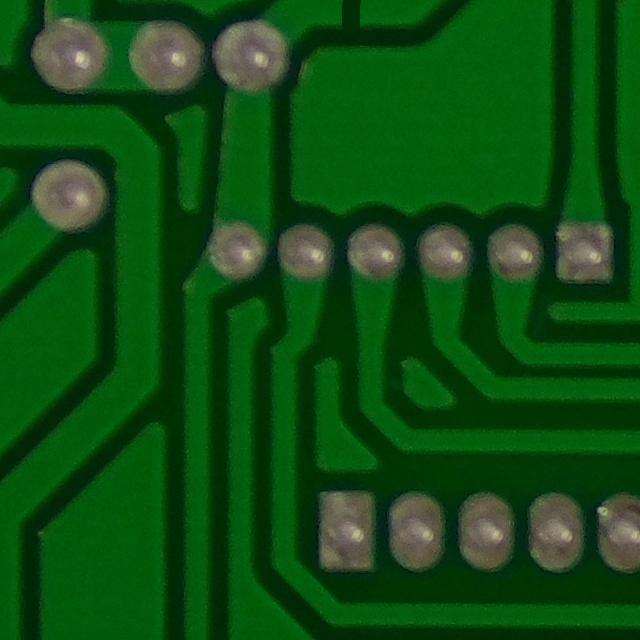open_circuit: (322, 0, 374, 39)
